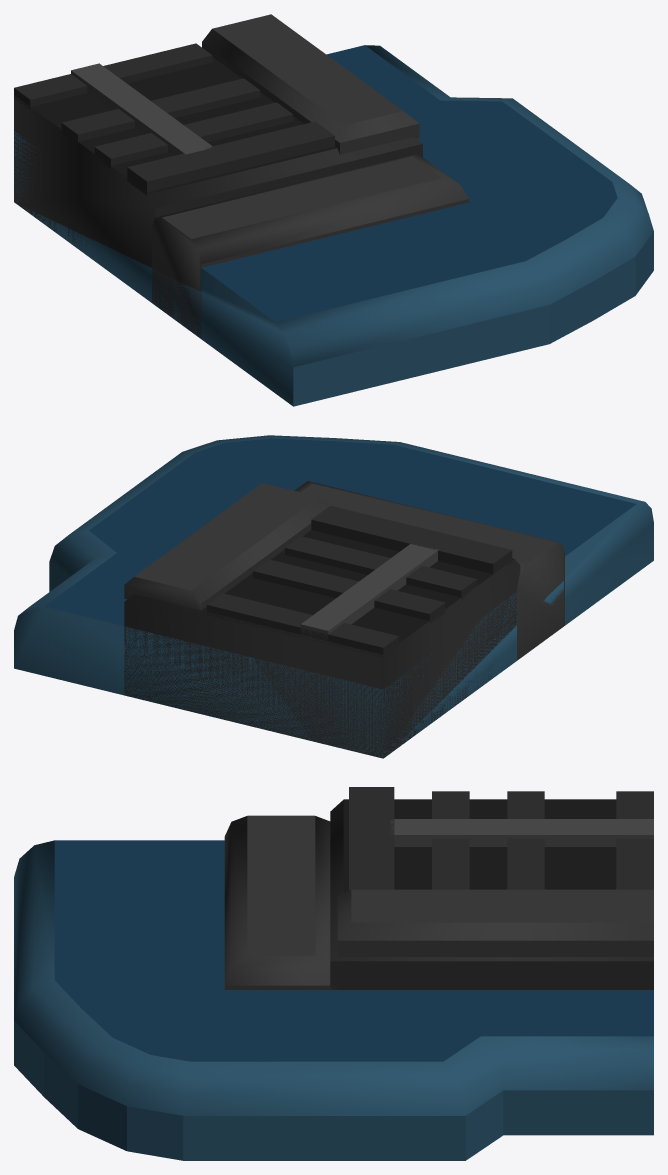
The model's file is newsho-124.glb.
The picture shows the model from 3 angles, top to bottom: view 1: azimuth 30°, elevation 25°; view 2: azimuth 150°, elevation 25°; view 3: azimuth 270°, elevation 25°; orthographic projection. The views are drawn at different scales.
Parts seen in each view (by area): view 1: newsho-124; view 2: newsho-124; view 3: newsho-124.
Part boxes in pixels (<box>): newsho-124: <box>14,14,653,406</box>; newsho-124: <box>14,435,653,758</box>; newsho-124: <box>14,787,653,1160</box>.
Bounding box in the file's own units: 1.25 × 0.35 × 1.42.
